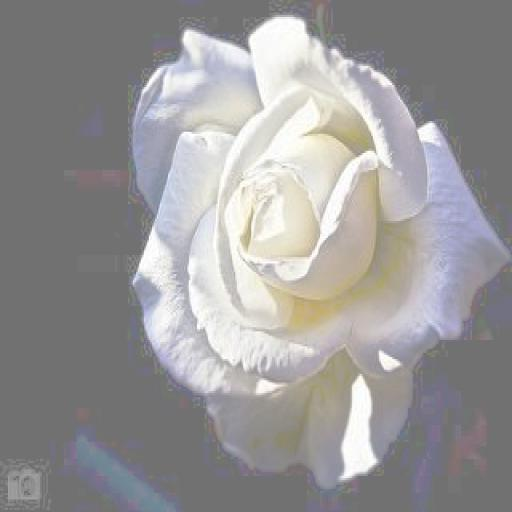rose: (132, 24, 506, 482)
